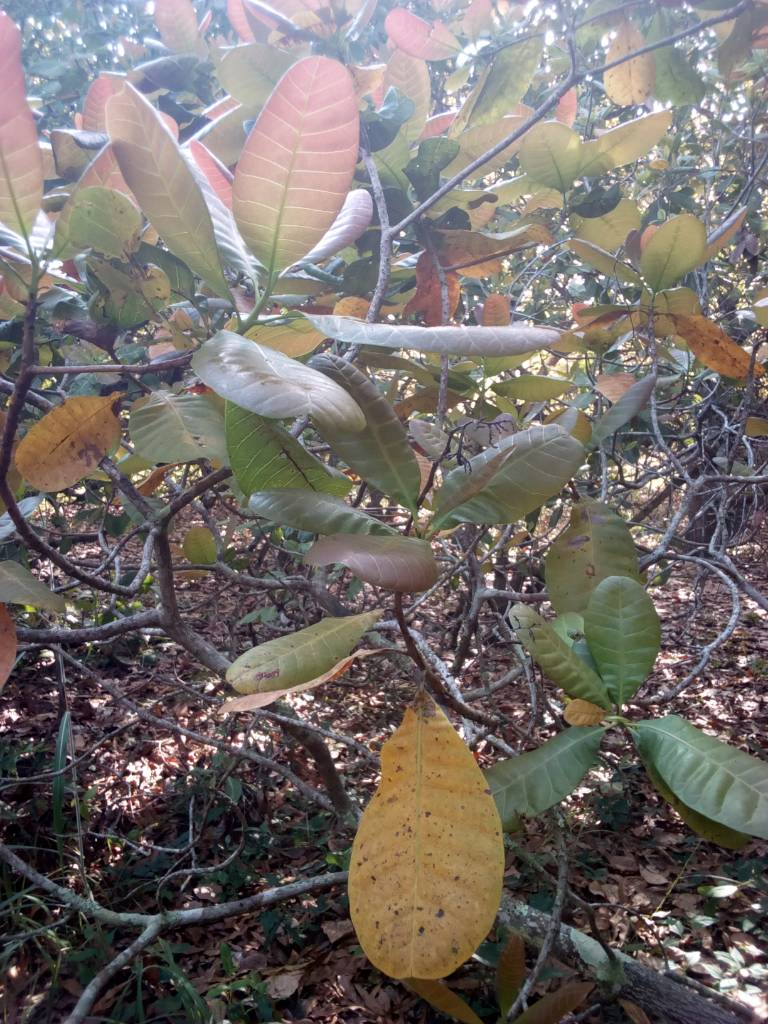Anthracnose: (349, 705, 500, 977), (10, 389, 127, 499), (669, 314, 761, 375)
